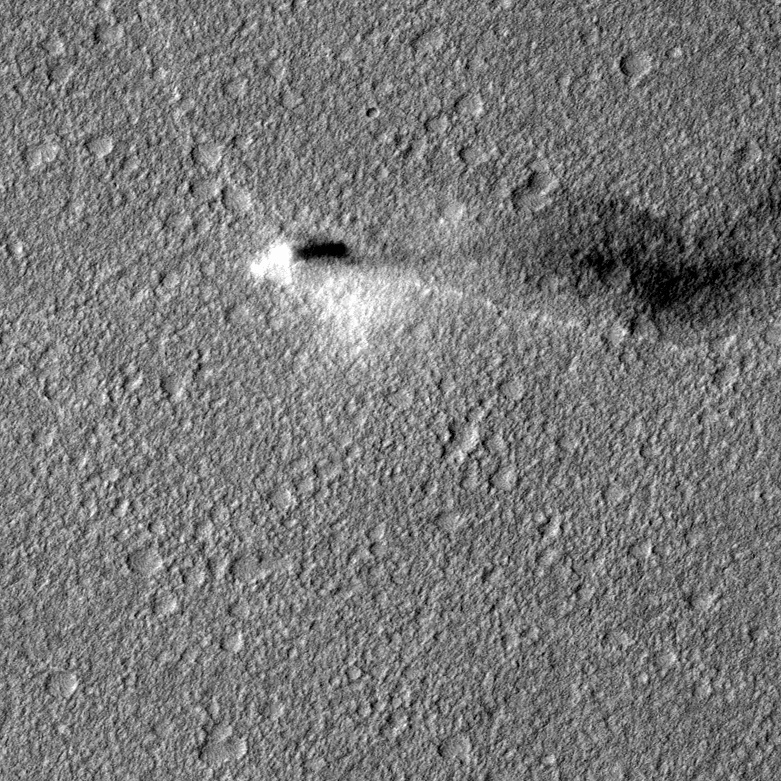dust_devil: (247, 163, 781, 360)
